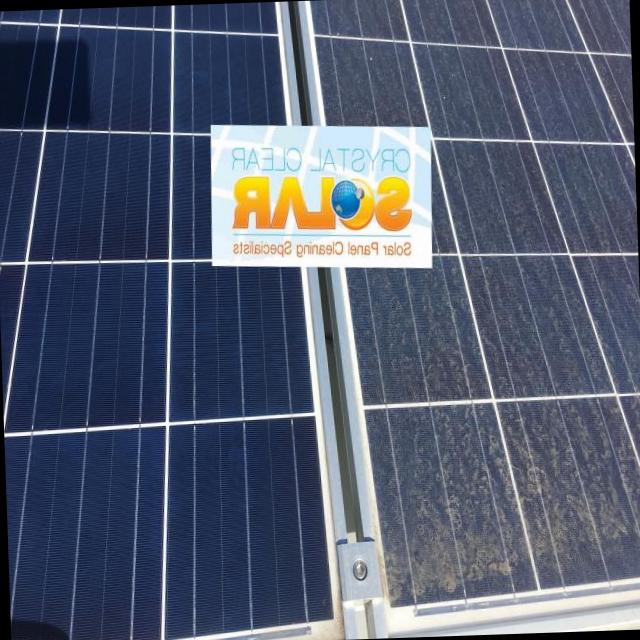faulty: (306, 0, 640, 616)
no faulty: (0, 7, 325, 640)
